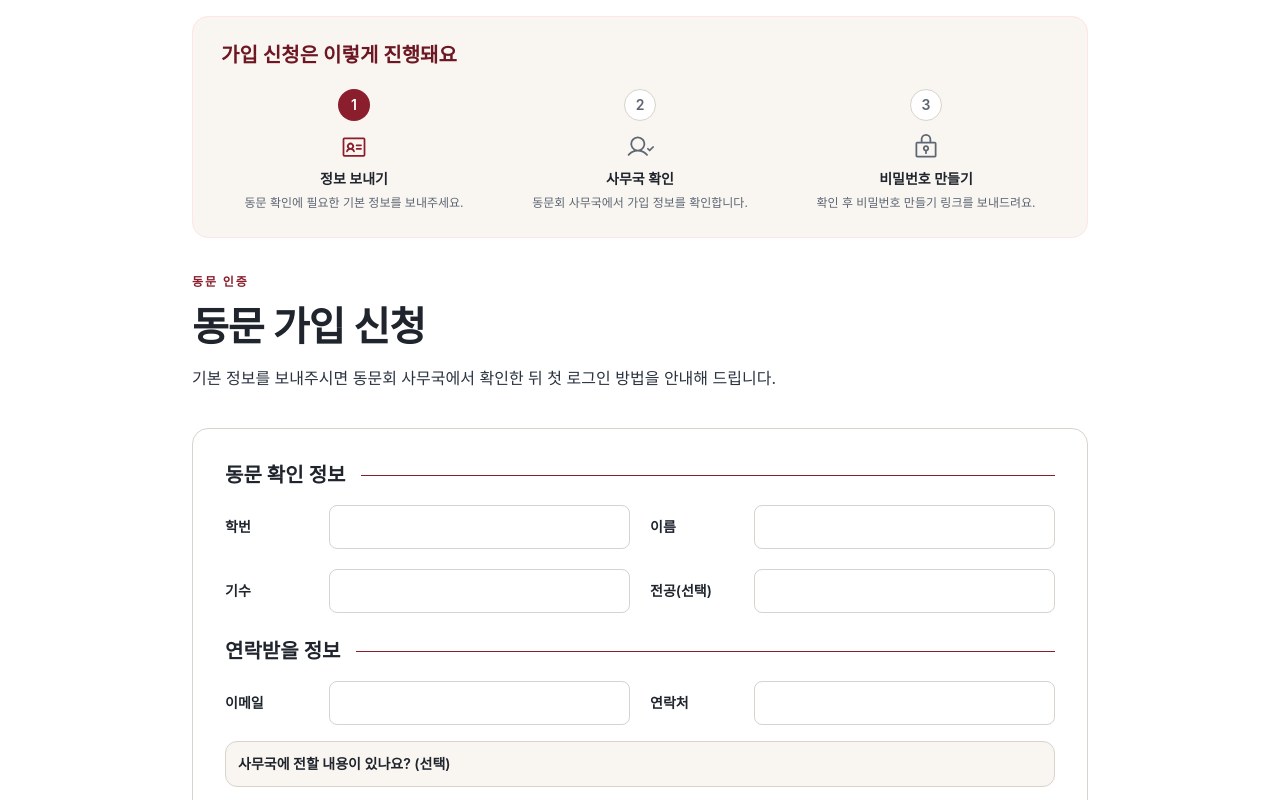
SignupPage › 접수 후에는 사무국 확인 단계와 기다릴 행동만 안내한다
The image size is (1280, 800).
Type "20260001" into the field labelled "학번".
click(480, 527); type("20260001")  # box [329,505,630,549]
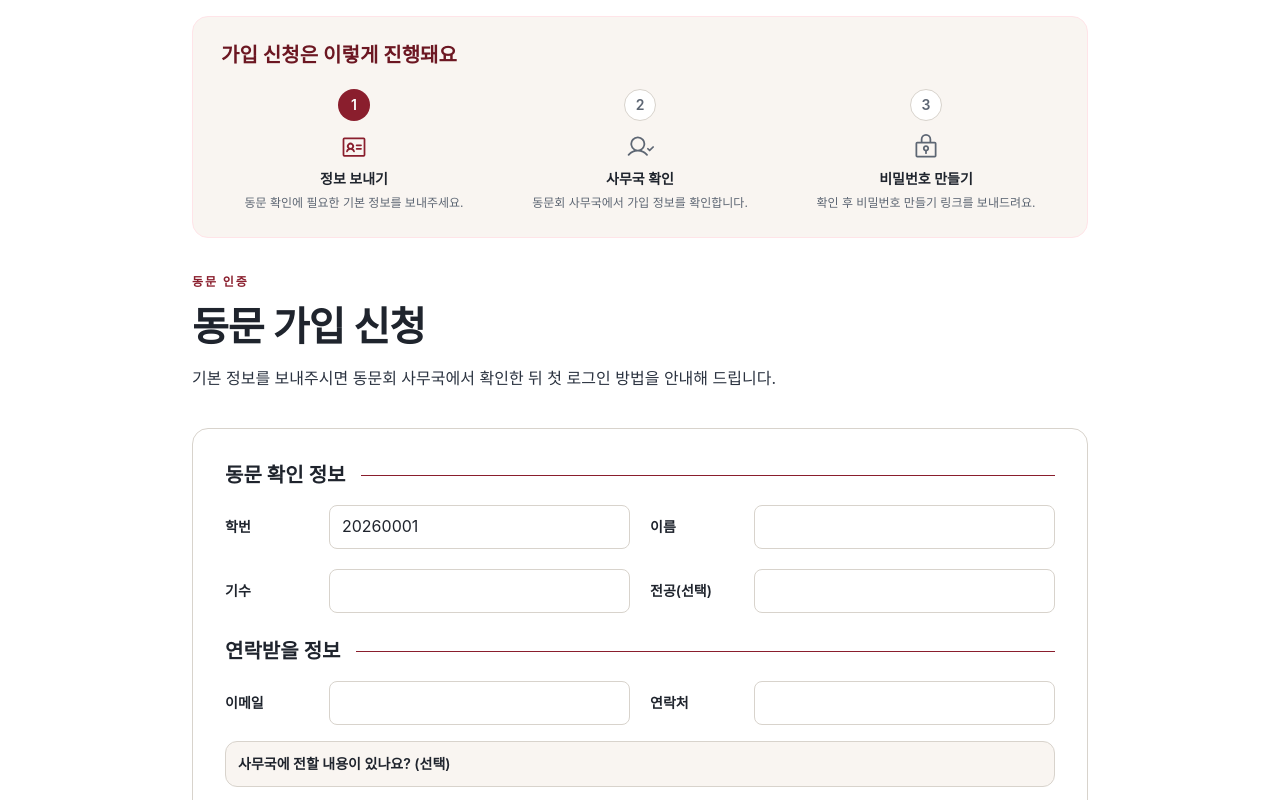
Type "홍길동" into the field labelled "이름".
click(904, 527); type("홍길동")  # box [754,505,1055,549]
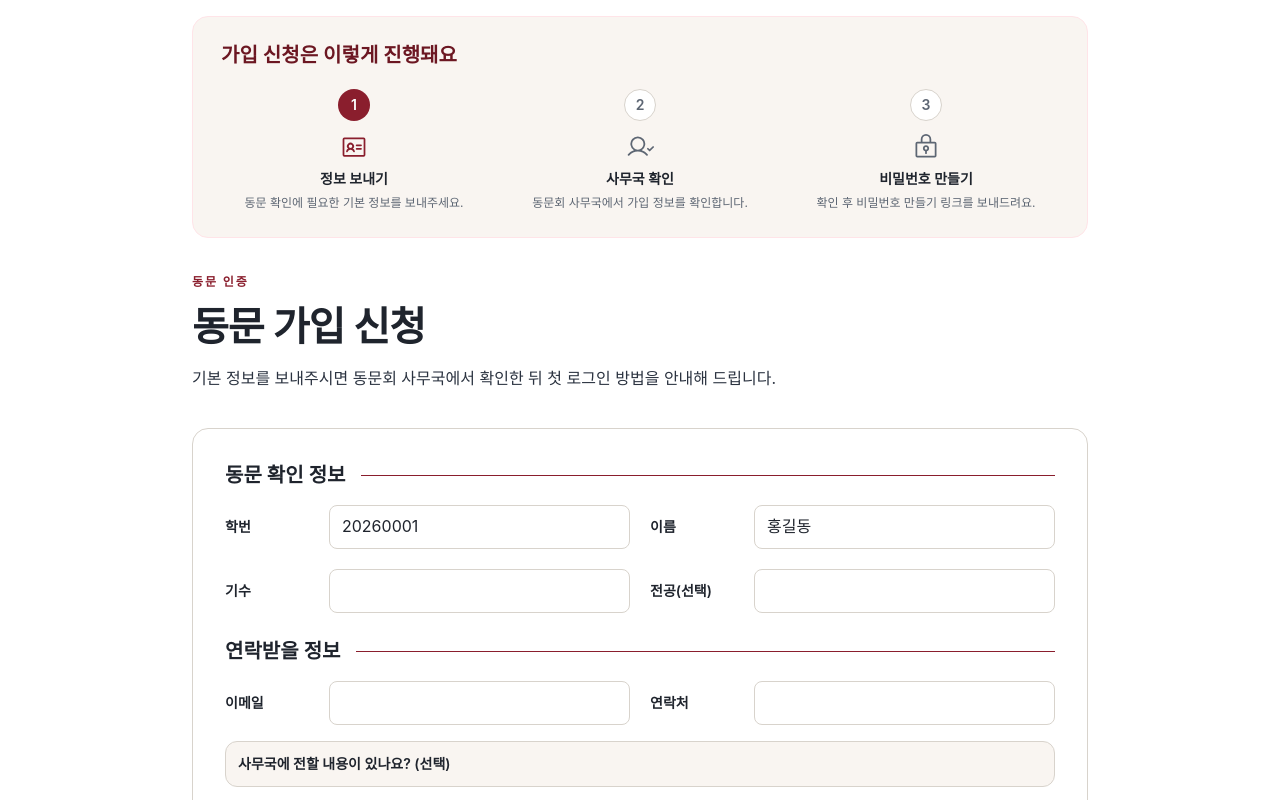
Type "member@example.com" into the field labelled "이메일".
click(480, 703); type("member@example.com")  # box [329,681,630,725]
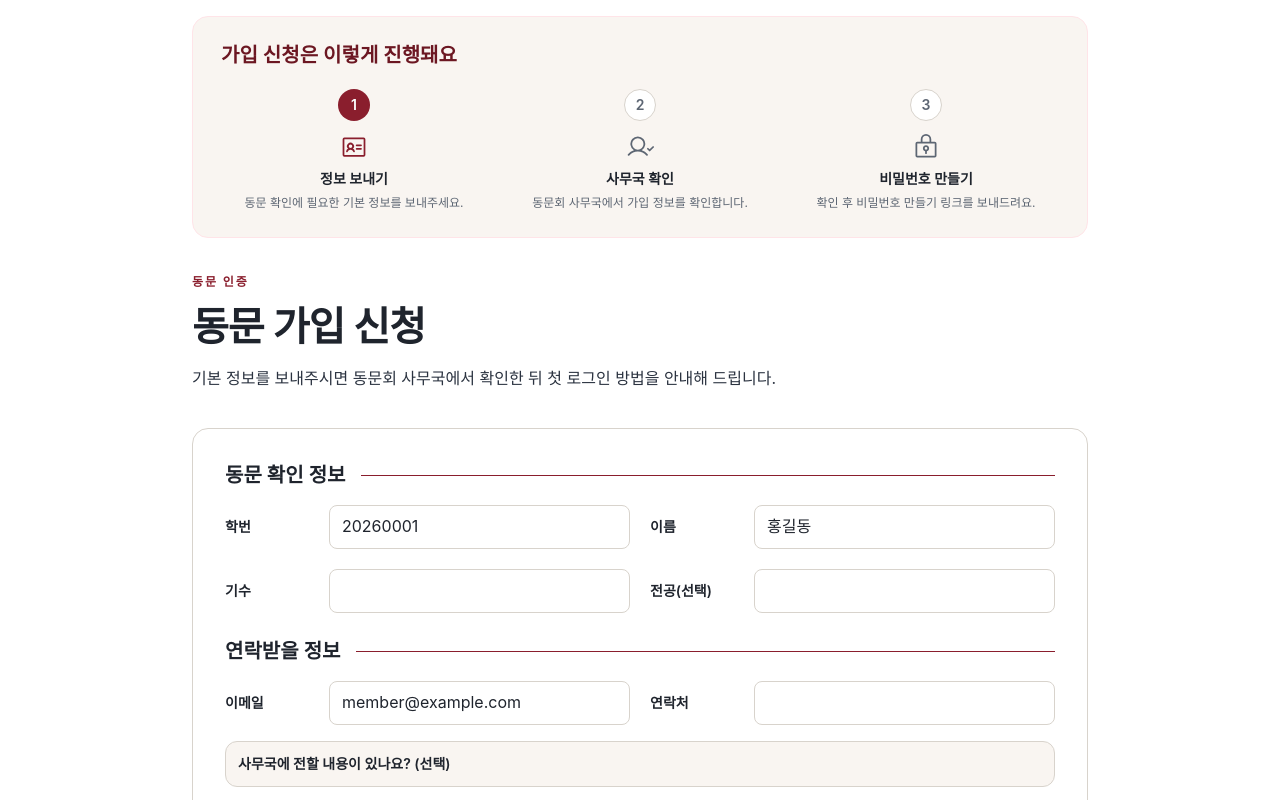
Type "58" into the field labelled "기수".
click(480, 591); type("58")  # box [329,569,630,613]
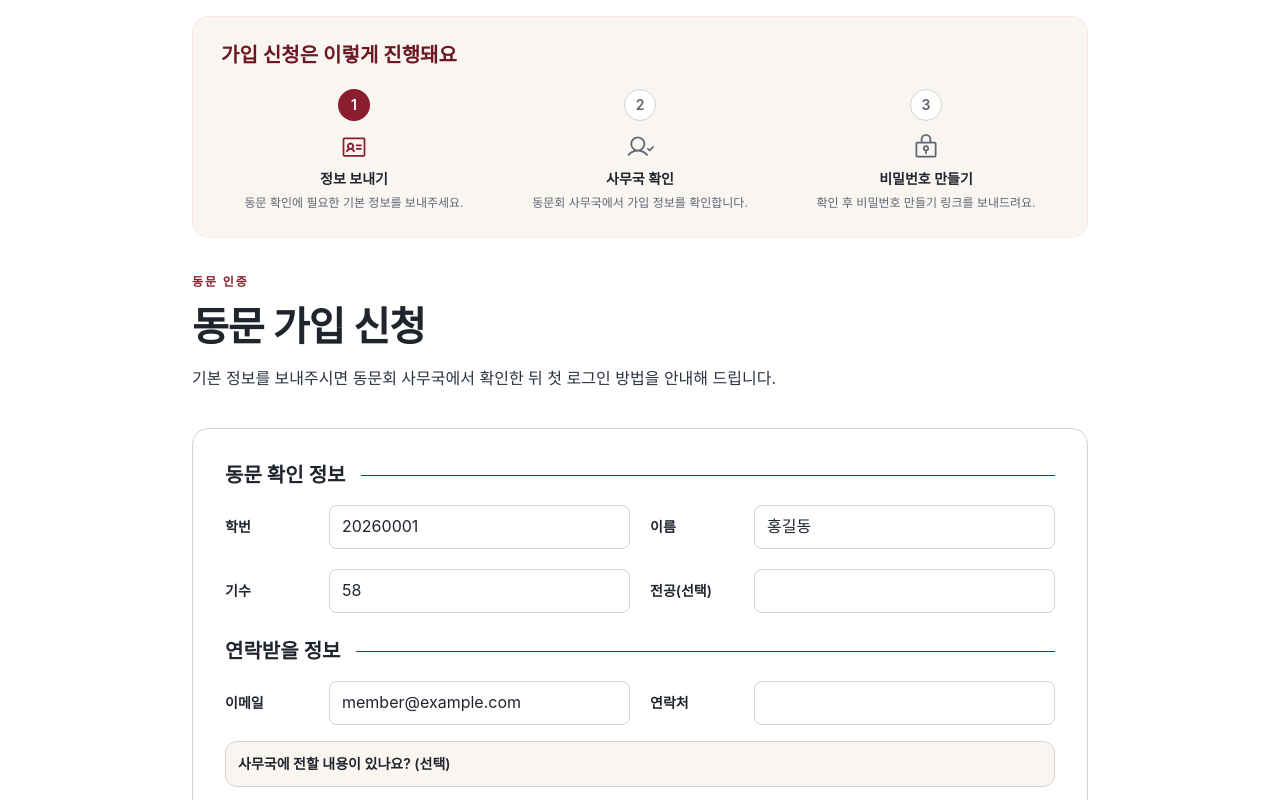
Type "01012345678" into the field labelled "연락처".
click(904, 703); type("01012345678")  # box [754,681,1055,725]
(page scrolled)
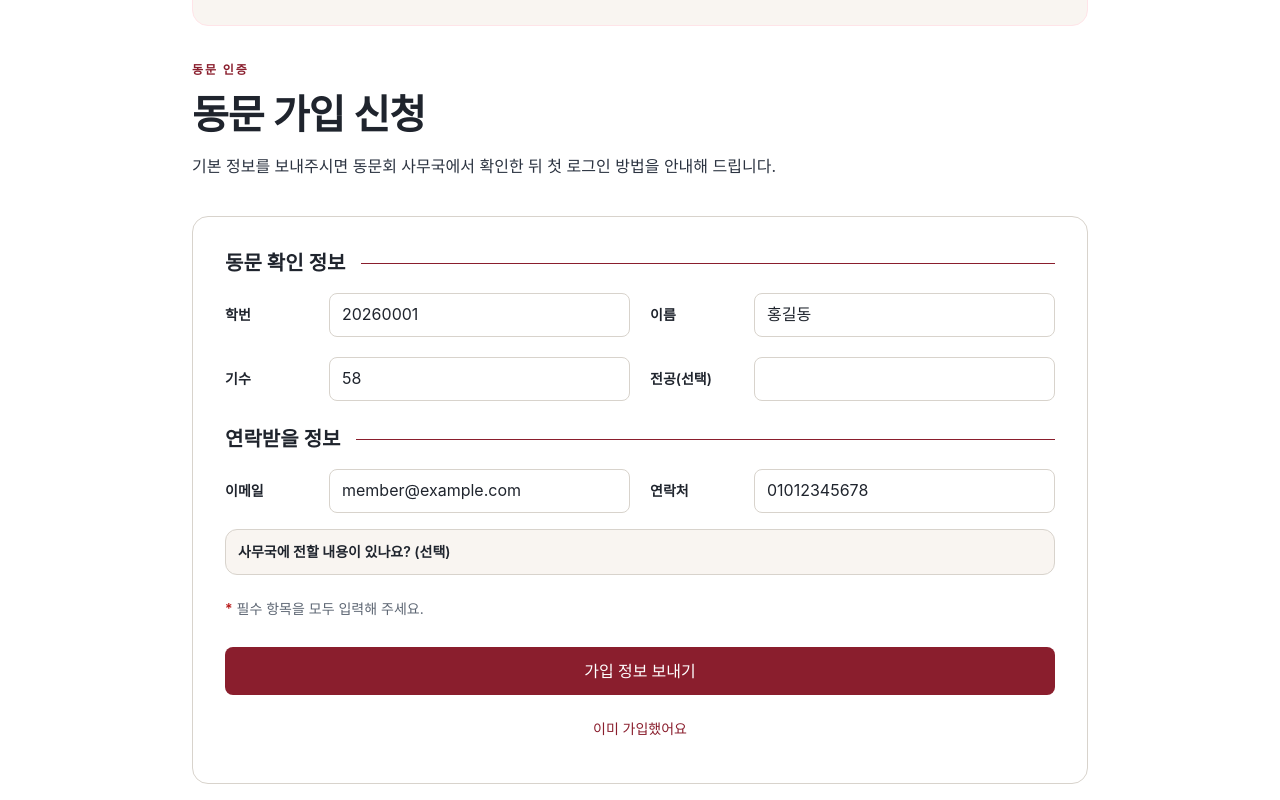
Click the button "가입 정보 보내기".
click(640, 671)  # box [225,647,1055,695]
(page scrolled)
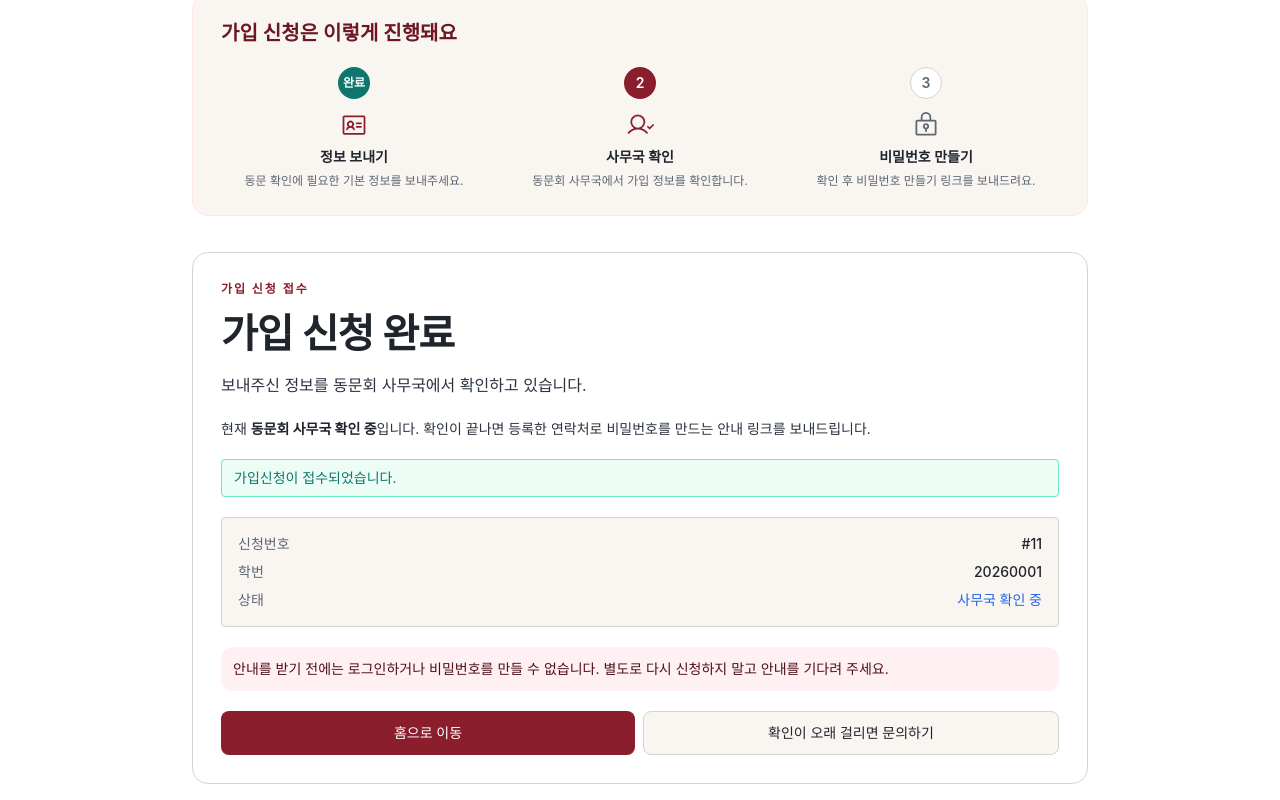
Expected: the heading "가입 신청 완료" is shown, [221,309,454,358]
Expected: the text "안내를 받기 전에는 로그인하거나 비밀번호를 만들 수 없습니다" is shown, [233,660,889,677]
